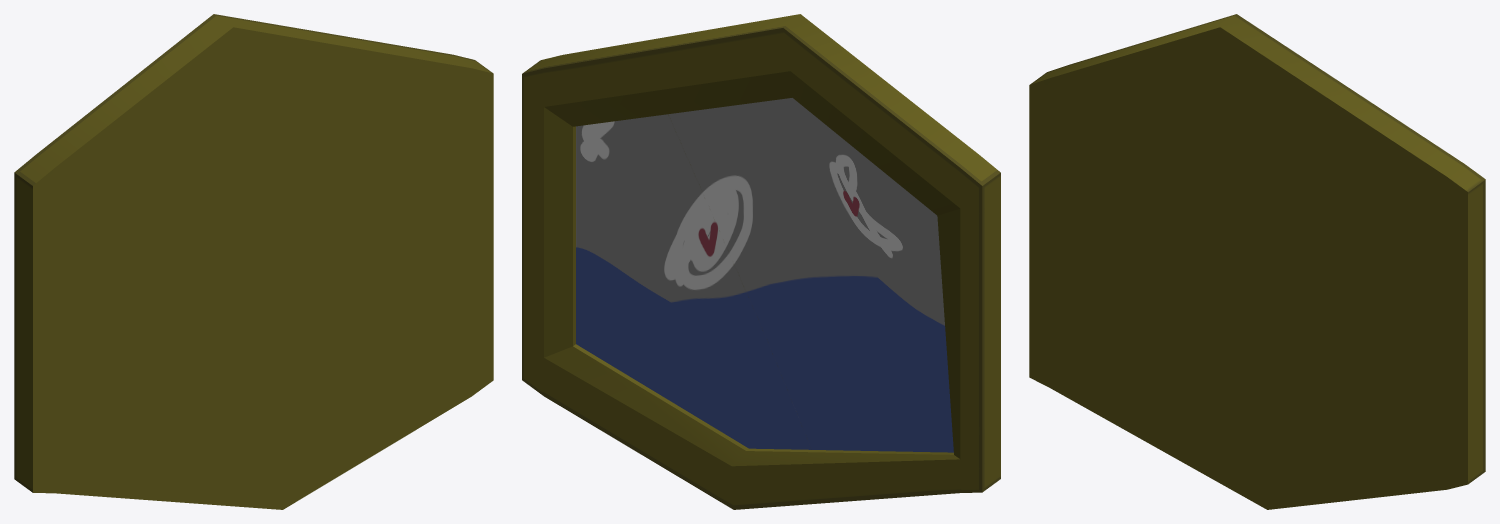
File: BgMD_painting_frame04 (2).fbx
3 views of the same model, side by side, from view 1: azimuth 30°, elevation 25°; view 2: azimuth 150°, elevation 25°; view 3: azimuth 330°, elevation 25° (orthographic). The views are drawn at different scales.
Parts seen in each view (by area): view 1: Bg_painting_frame04; view 2: Bg_painting_frame04; view 3: Bg_painting_frame04.
Boxes of the visible parts, left/top/right/bottom form: Bg_painting_frame04: left=14, top=14, right=493, bottom=509; Bg_painting_frame04: left=522, top=14, right=1000, bottom=509; Bg_painting_frame04: left=1029, top=14, right=1485, bottom=509.
Bounding box in the file's own units: 220 × 226 × 15.31.
Materials: 1 (1 with a texture image).
